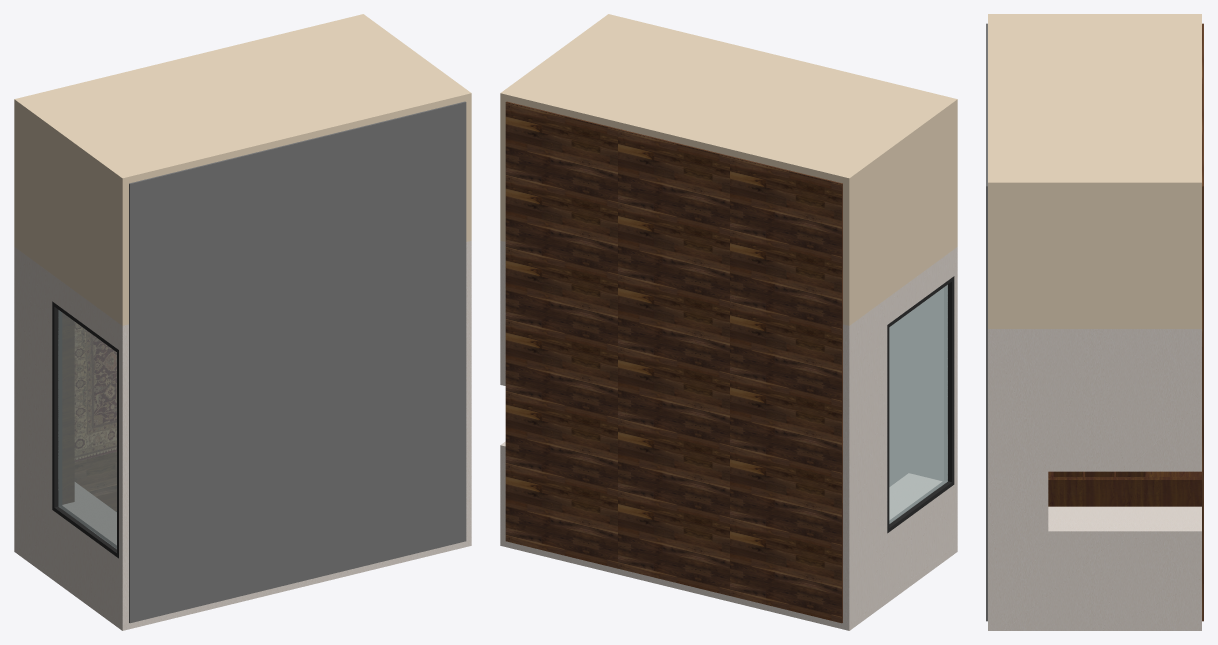
The model's file is ROOM 7.24.18.fbx.
3 renders of one model, left to right at view 1: azimuth 30°, elevation 25°; view 2: azimuth 150°, elevation 25°; view 3: azimuth 270°, elevation 25°, orthographic.
Parts seen in each view (by area): view 1: ceiling, walls, glass, rug, window, shelving, floor; view 2: floor, walls, glass, ceiling, window; view 3: walls, shelving, ceiling, floor.
Part boxes in pixels (box(x1,y1,x2,y2)): ceiling: box(129, 101, 466, 623); walls: box(14, 14, 471, 630); glass: box(58, 310, 116, 549); rug: box(75, 322, 116, 461); window: box(52, 301, 118, 558); shelving: box(62, 313, 116, 511); floor: box(75, 452, 116, 496); floor: box(505, 101, 842, 623); walls: box(500, 14, 957, 630); glass: box(889, 285, 947, 523); ceiling: box(889, 288, 943, 486); window: box(887, 276, 954, 533); walls: box(988, 14, 1201, 630); shelving: box(1048, 471, 1201, 506); ceiling: box(986, 23, 987, 621); floor: box(1202, 23, 1203, 621).
Bounding box in the file's own units: 218 × 270 × 119.
